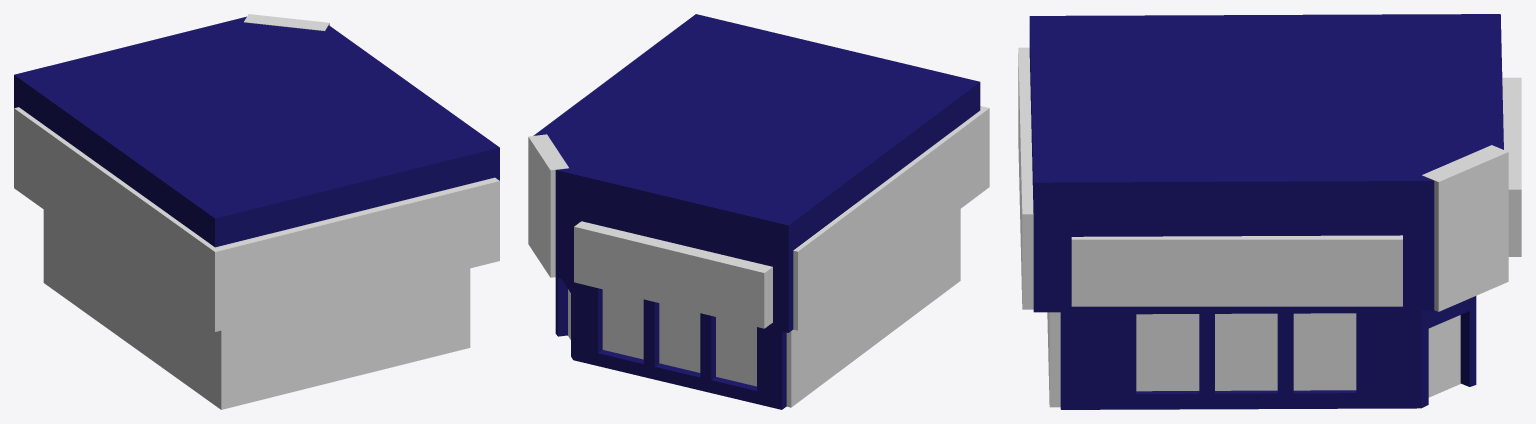
Rendered from Building_TheClub.fbx.
The picture shows the model from 3 angles, left to right: view 1: azimuth 30°, elevation 25°; view 2: azimuth 150°, elevation 25°; view 3: azimuth 270°, elevation 25°; orthographic projection. The views are drawn at different scales.
Parts seen in each view (by area): view 1: Cube.210, Cube.209, Cube.211; view 2: Cube.209, Cube.210, Cube.223, Cube.211; view 3: Cube.209, Cube.222, Cube.210, Cube.211, Cube.223.
Boxes of the visible parts, left/top/right/bottom form: Cube.210: left=14, top=107, right=499, bottom=409; Cube.209: left=14, top=16, right=499, bottom=247; Cube.211: left=244, top=14, right=329, bottom=31; Cube.209: left=533, top=14, right=980, bottom=409; Cube.210: left=568, top=106, right=989, bottom=407; Cube.223: left=574, top=221, right=772, bottom=328; Cube.211: left=528, top=134, right=568, bottom=277; Cube.209: left=1029, top=14, right=1503, bottom=409; Cube.222: left=1071, top=235, right=1402, bottom=306; Cube.210: left=1018, top=47, right=1460, bottom=407; Cube.211: left=1422, top=145, right=1508, bottom=311; Cube.223: left=1502, top=77, right=1521, bottom=256.
Bounding box in the file's own units: 1179 × 754 × 1442.
